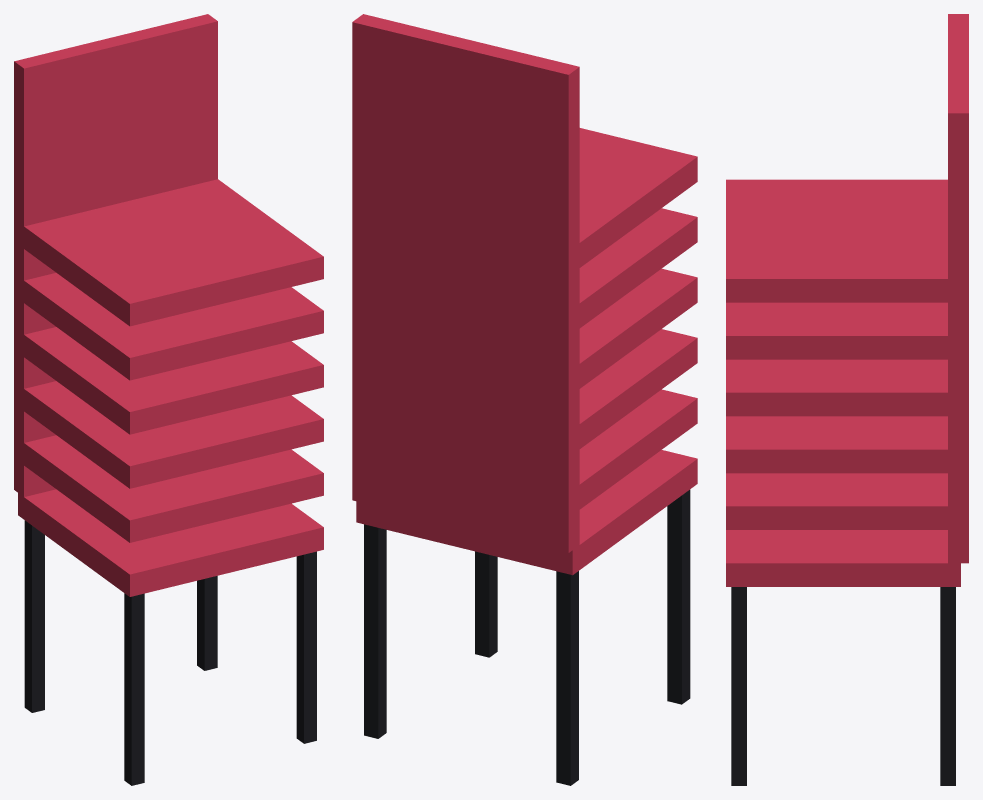
Rendered from chair_stack.glb.
3 views of the same model, side by side, from view 1: azimuth 30°, elevation 25°; view 2: azimuth 150°, elevation 25°; view 3: azimuth 270°, elevation 25° (orthographic). The views are drawn at different scales.
Parts seen in each view (by area): view 1: seat_kchair_seat, back_kchair_seat, leg_ktable_dark; view 2: back_kchair_seat, seat_kchair_seat, leg_ktable_dark; view 3: seat_kchair_seat, back_kchair_seat, leg_ktable_dark.
Boxes of the visible parts, x1,y1,x2,y2 form: seat_kchair_seat: (18,179,323,596); back_kchair_seat: (14,14,217,496); leg_ktable_dark: (24,520,316,785); back_kchair_seat: (352,14,579,552); seat_kchair_seat: (356,128,697,575); leg_ktable_dark: (364,489,690,785); seat_kchair_seat: (726,179,960,586); back_kchair_seat: (948,14,968,563); leg_ktable_dark: (731,587,955,785).
Size of the model in its own units: 0.45 by 1.42 by 0.465.
